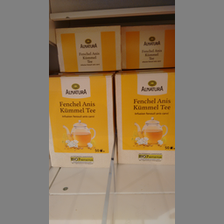tea: (50, 72, 114, 167), (116, 70, 175, 167)
